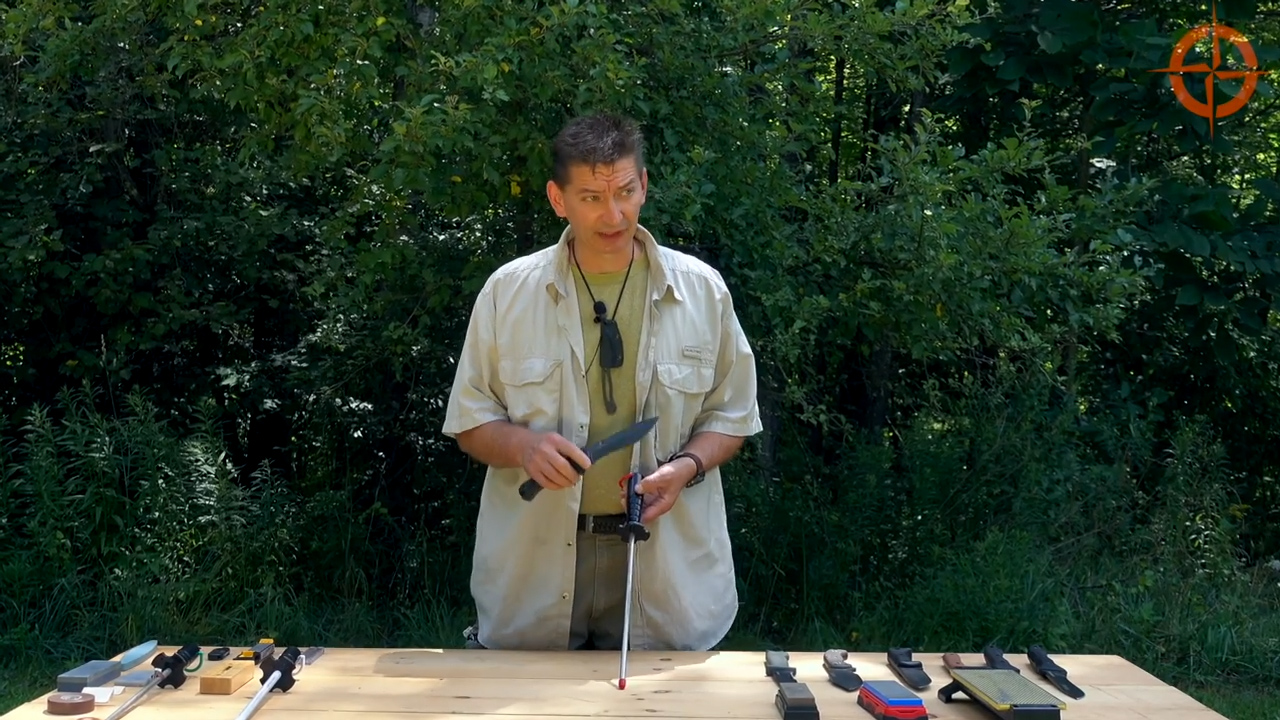knife: (511, 412, 665, 503)
